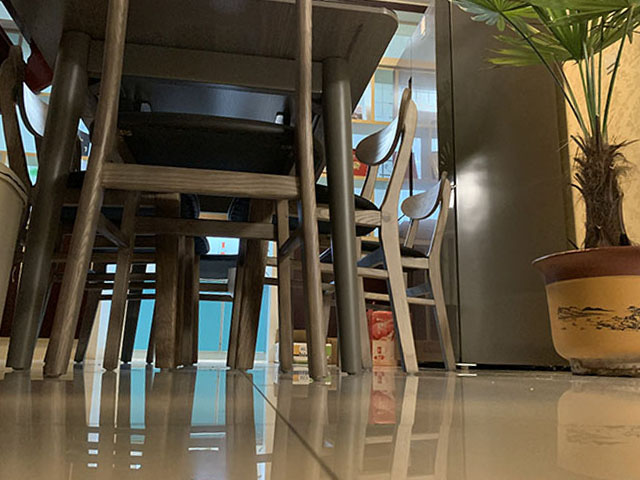stool: (39, 1, 332, 384), (1, 37, 202, 374), (223, 81, 421, 380), (314, 170, 456, 373)
table: (1, 1, 404, 383)
